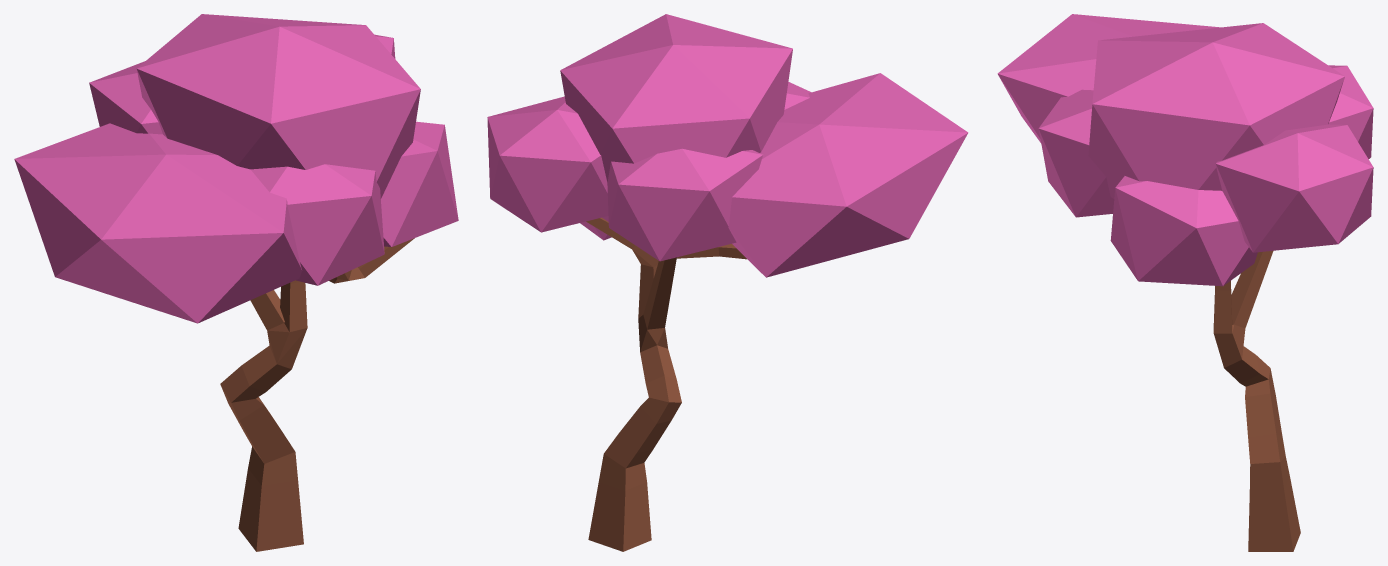
The model's file is tree.fbx.
3 views of the same model, side by side, from view 1: azimuth 30°, elevation 25°; view 2: azimuth 150°, elevation 25°; view 3: azimuth 270°, elevation 25° (orthographic). The views are drawn at different scales.
Parts seen in each view (by area): view 1: Icosphere, Icosphere.004, Cube; view 2: Icosphere, Icosphere.004, Cube, Icosphere.003; view 3: Icosphere.004, Icosphere, Icosphere.003, Cube.
Boxes of the visible parts, x1,y1,x2,y2 form: Icosphere: [14, 61, 458, 323]; Icosphere.004: [136, 14, 420, 198]; Cube: [220, 238, 414, 551]; Icosphere: [580, 73, 968, 277]; Icosphere.004: [560, 14, 792, 182]; Cube: [586, 217, 746, 551]; Icosphere.003: [487, 96, 608, 232]; Icosphere.004: [1088, 23, 1344, 198]; Icosphere: [997, 14, 1373, 286]; Icosphere.003: [1216, 124, 1373, 252]; Cube: [1213, 250, 1300, 551].
Size of the model in its own units: 848 by 1051 by 731.
